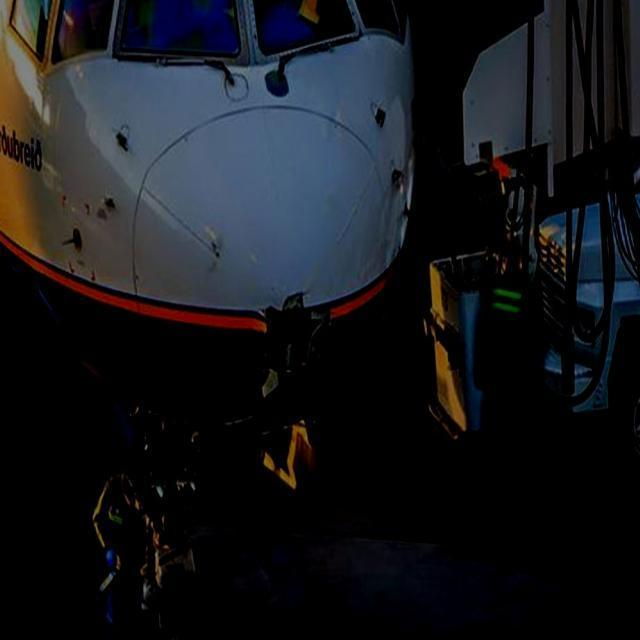crack: (253, 291, 331, 382)
